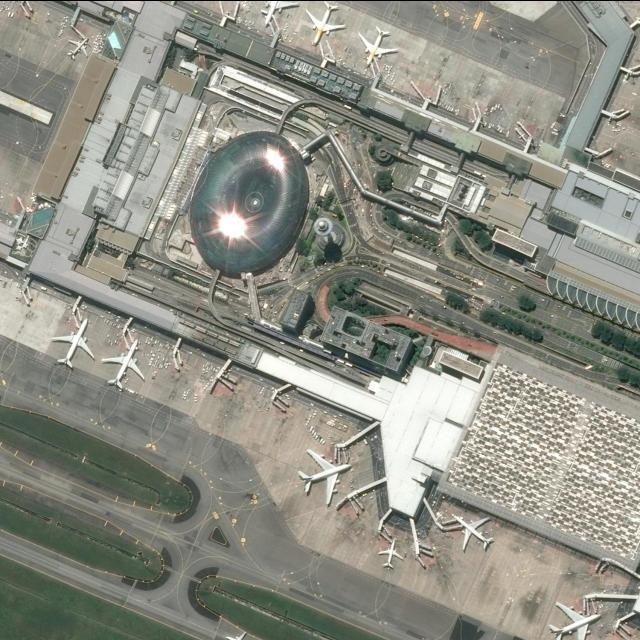Aircraft: (296, 448, 352, 508), (50, 317, 96, 370), (100, 339, 145, 391), (546, 601, 600, 640), (304, 0, 344, 47), (451, 512, 495, 553), (357, 24, 397, 68), (256, 0, 298, 27), (376, 538, 404, 571), (66, 36, 90, 61), (224, 630, 247, 640)
